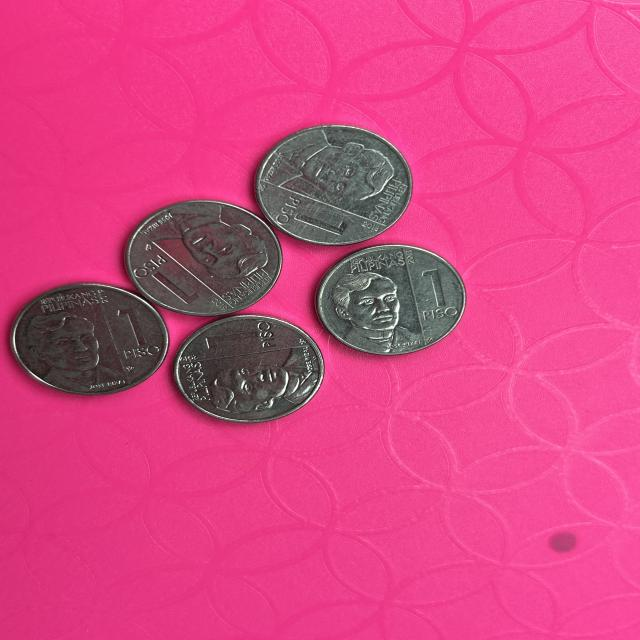1_New_Front: (130, 254, 196, 315), (278, 195, 352, 243), (200, 324, 277, 363), (420, 262, 458, 327), (110, 306, 154, 360)
